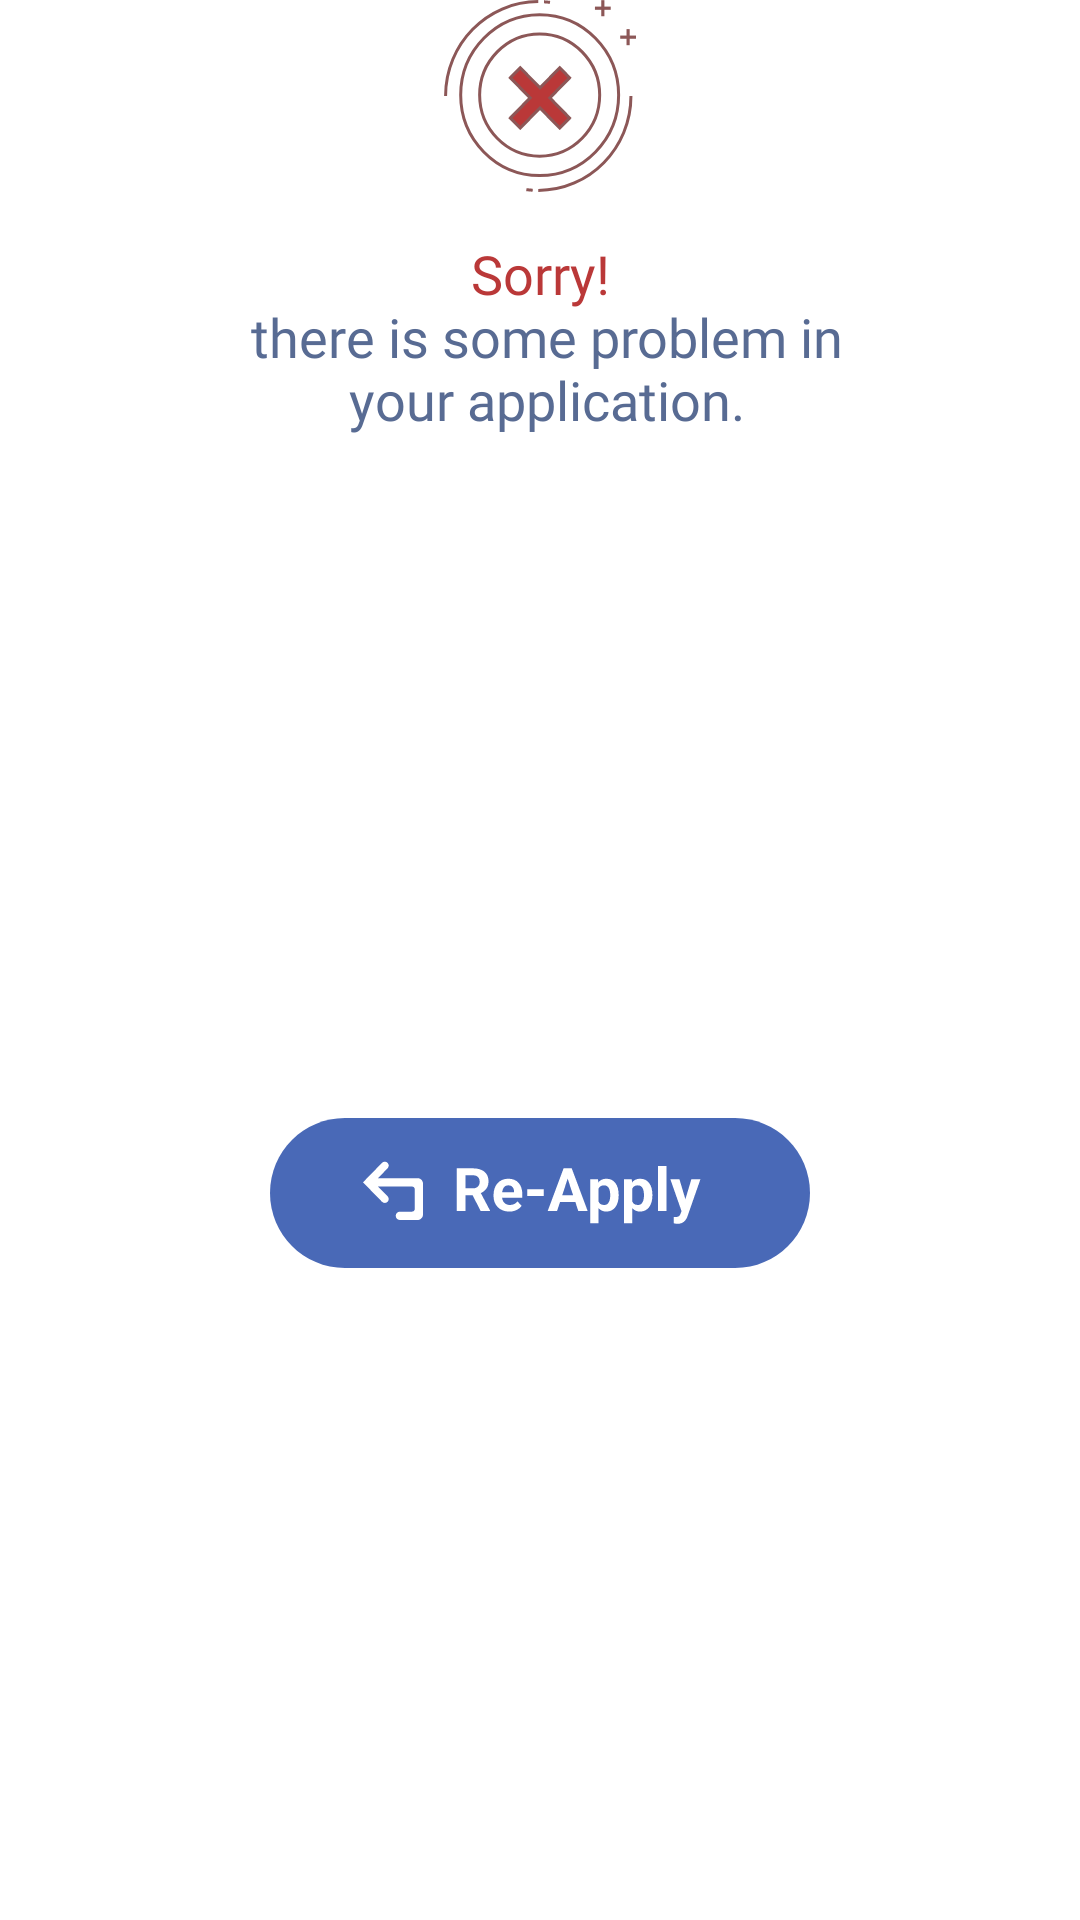

Icon bounding boxes for this 1080px x 1920px phone screenshot, format {"x1": x1, "y1": y1, "x2": x2, "y2": y2}:
cross: {"x1": 444, "y1": 0, "x2": 636, "y2": 192}
